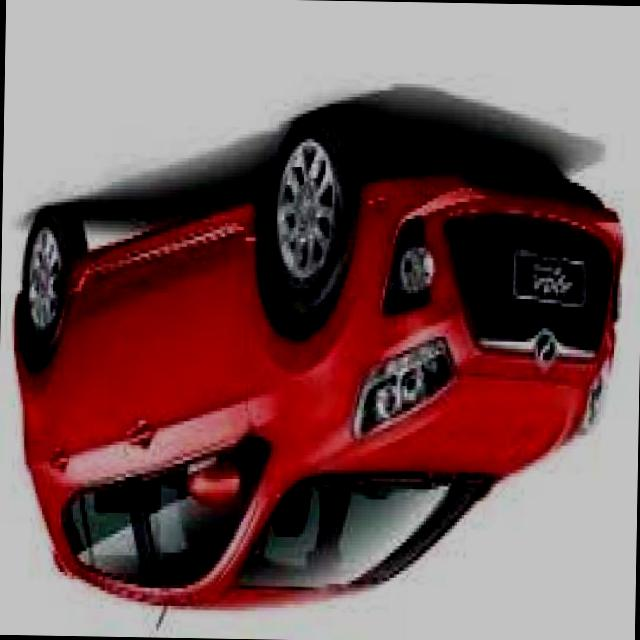PeroduaAxia: (6, 101, 627, 638)
